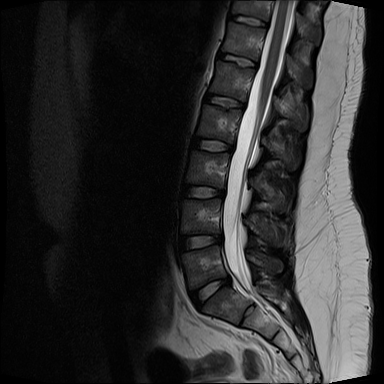Normal IVD: (185, 270, 235, 313), (185, 130, 238, 157), (171, 230, 224, 257), (201, 88, 248, 113), (214, 47, 259, 72), (177, 183, 227, 203), (227, 11, 271, 30)
